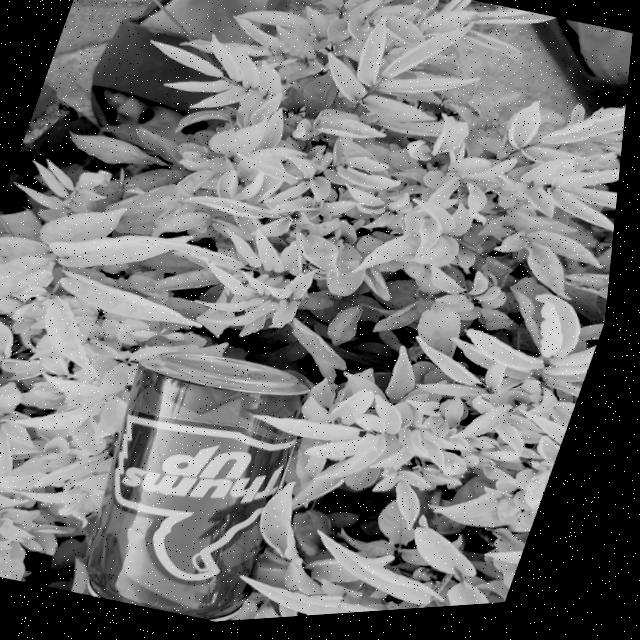Thums Up: (69, 336, 336, 634)
